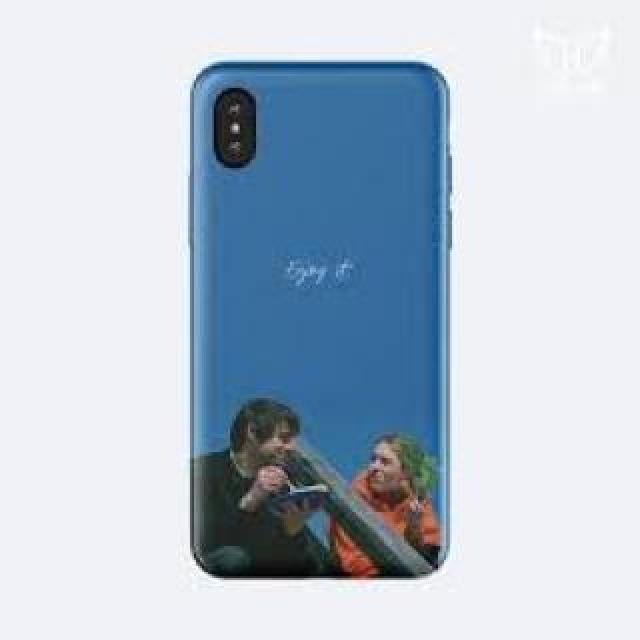smart phone: (182, 37, 492, 585)
